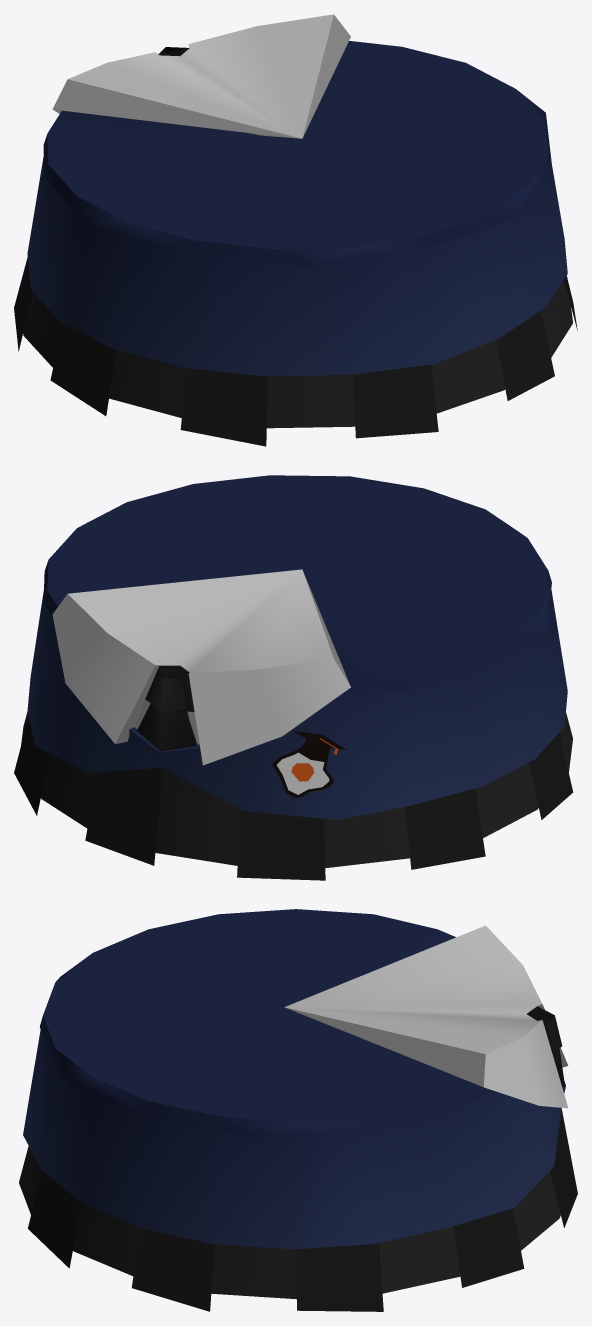
Rendered from hat_academyfemale.glb.
3 renders of one model, top to bottom at view 1: azimuth 30°, elevation 25°; view 2: azimuth 150°, elevation 25°; view 3: azimuth 270°, elevation 25°, orthographic.
Parts seen in each view (by area): view 1: hat_academyfemale; view 2: hat_academyfemale; view 3: hat_academyfemale.
Part boxes in pixels (box(x1,y1,x2,y2)): hat_academyfemale: box(14, 14, 577, 446); hat_academyfemale: box(14, 475, 573, 880); hat_academyfemale: box(19, 909, 577, 1311).
Size of the model in its own units: 0.548 by 0.225 by 0.5498.
